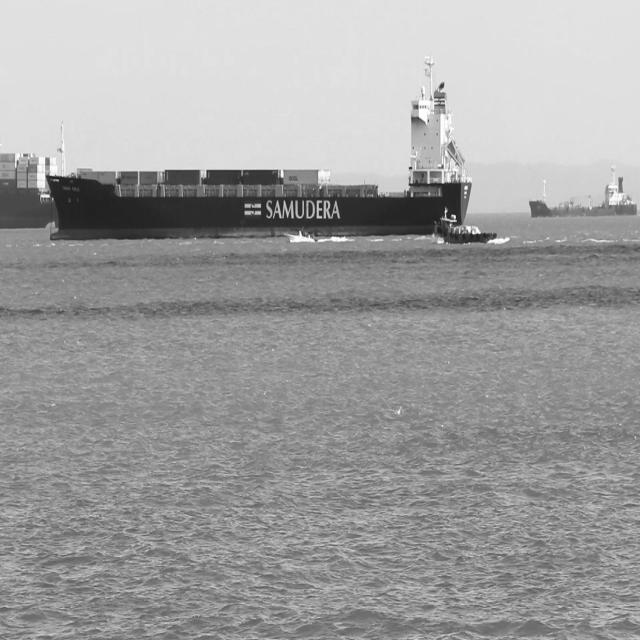ship: (45, 51, 473, 240), (528, 166, 639, 219), (0, 150, 59, 230), (432, 208, 498, 246), (283, 224, 317, 241)
